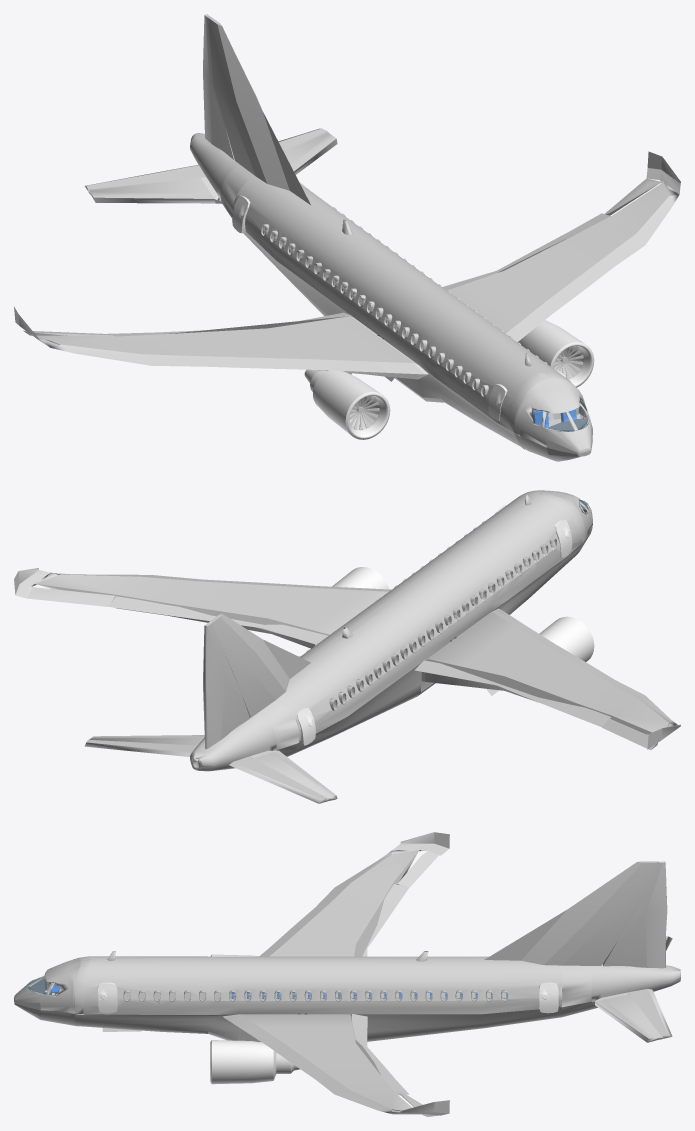
File: Airbus A320.fbx
3 renders of one model, top to bottom at view 1: azimuth 30°, elevation 25°; view 2: azimuth 150°, elevation 25°; view 3: azimuth 270°, elevation 25°, orthographic. The views are drawn at different scales.
Visible parts, largest first — view 1: Body, Right Engine, Left Engine, Windows, Rear Aileron, Rear Right Flaps, Front Left Flaps, Windshield; view 2: Body, Rear Aileron, Windows, Front Left Flaps, Front Right Flaps, Right Engine, Rear Right Flaps, Rear Left Flaps, Left Aileron, Left Engine, Right Aileron, Rear Right Door (+1 smaller); view 3: Body, Rear Aileron, Left Engine, Windows, Rear Left Flaps, Front Left Flaps, Front Right Flaps, Front Left Door, Right Aileron, Rear Left Door.
Part boxes in pixels (x1,y1,x2,y2): Body: (14, 16, 680, 461); Right Engine: (304, 369, 390, 439); Left Engine: (517, 320, 594, 387); Windows: (262, 207, 555, 397); Rear Aileron: (203, 14, 234, 159); Rear Right Flaps: (84, 165, 205, 192); Front Left Flaps: (442, 213, 610, 290); Windshield: (533, 401, 590, 429); Body: (14, 490, 680, 801); Rear Aileron: (203, 623, 249, 749); Windows: (306, 521, 557, 710); Front Left Flaps: (108, 596, 328, 644); Front Right Flaps: (414, 660, 610, 727); Right Engine: (539, 616, 594, 661); Rear Right Flaps: (229, 756, 327, 803); Rear Left Flaps: (84, 739, 196, 756); Left Aileron: (26, 587, 115, 606); Left Engine: (332, 567, 388, 589); Right Aileron: (602, 718, 657, 750); Rear Right Door: (297, 707, 315, 745); Body: (14, 832, 680, 1115); Rear Aileron: (603, 861, 667, 968); Left Engine: (210, 1040, 299, 1084); Windows: (123, 990, 508, 1001); Rear Left Flaps: (628, 988, 672, 1038); Front Left Flaps: (352, 1014, 409, 1095); Front Right Flaps: (362, 884, 409, 956); Front Left Door: (97, 982, 117, 1012); Right Aileron: (397, 850, 438, 887); Rear Left Door: (539, 982, 558, 1013).
Bounding box in the file's own units: 1243 × 382 × 1299.
28 materials, 9 textured.
